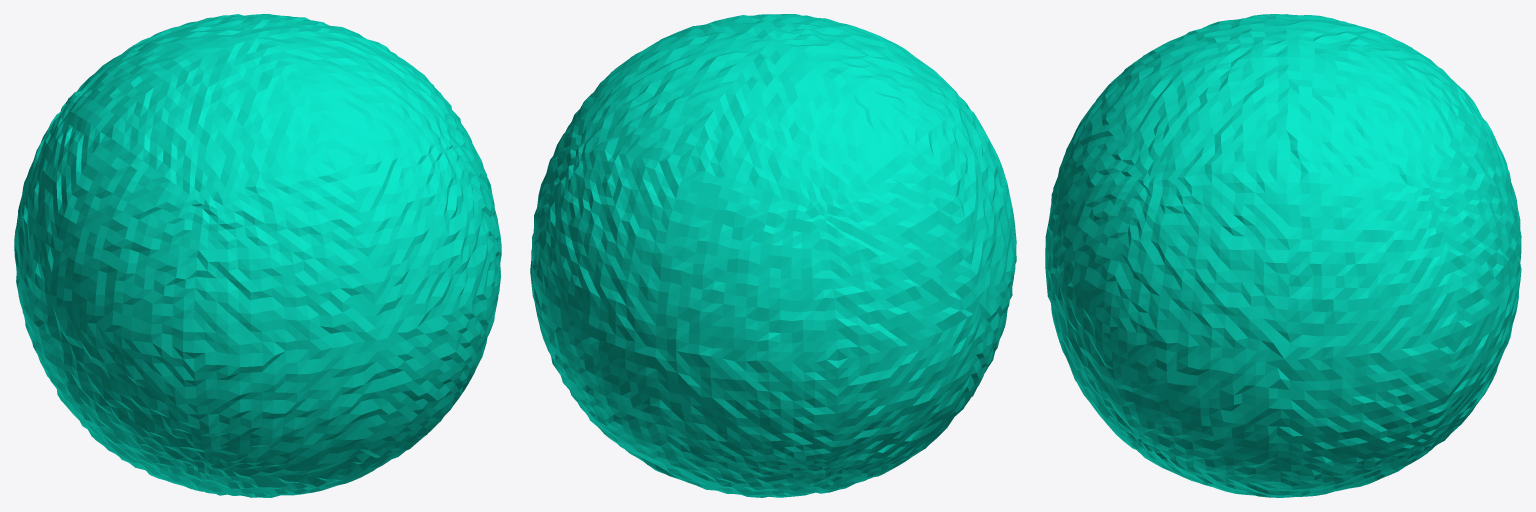
Rendered from Sea22.fbx.
3 views of the same model, side by side, from view 1: azimuth 30°, elevation 25°; view 2: azimuth 150°, elevation 25°; view 3: azimuth 270°, elevation 25° (orthographic).
Visible parts, largest first — view 1: pCube1; view 2: pCube1; view 3: pCube1.
Part boxes in pixels (x1=…): pCube1: x1=14, y1=14, x2=501, y2=497; pCube1: x1=530, y1=14, x2=1016, y2=497; pCube1: x1=1045, y1=14, x2=1521, y2=497.
Size of the model in its own units: 39.98 by 39.93 by 39.89.
